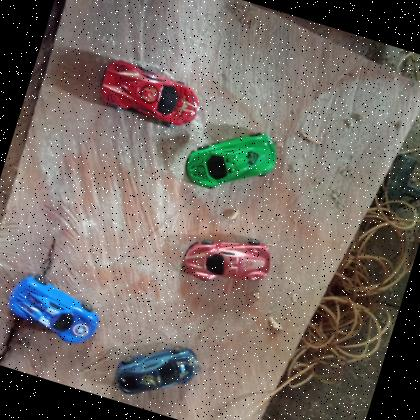Car: (179, 110, 286, 208), (91, 54, 208, 136), (0, 268, 108, 353), (109, 330, 206, 414), (178, 220, 278, 300)
